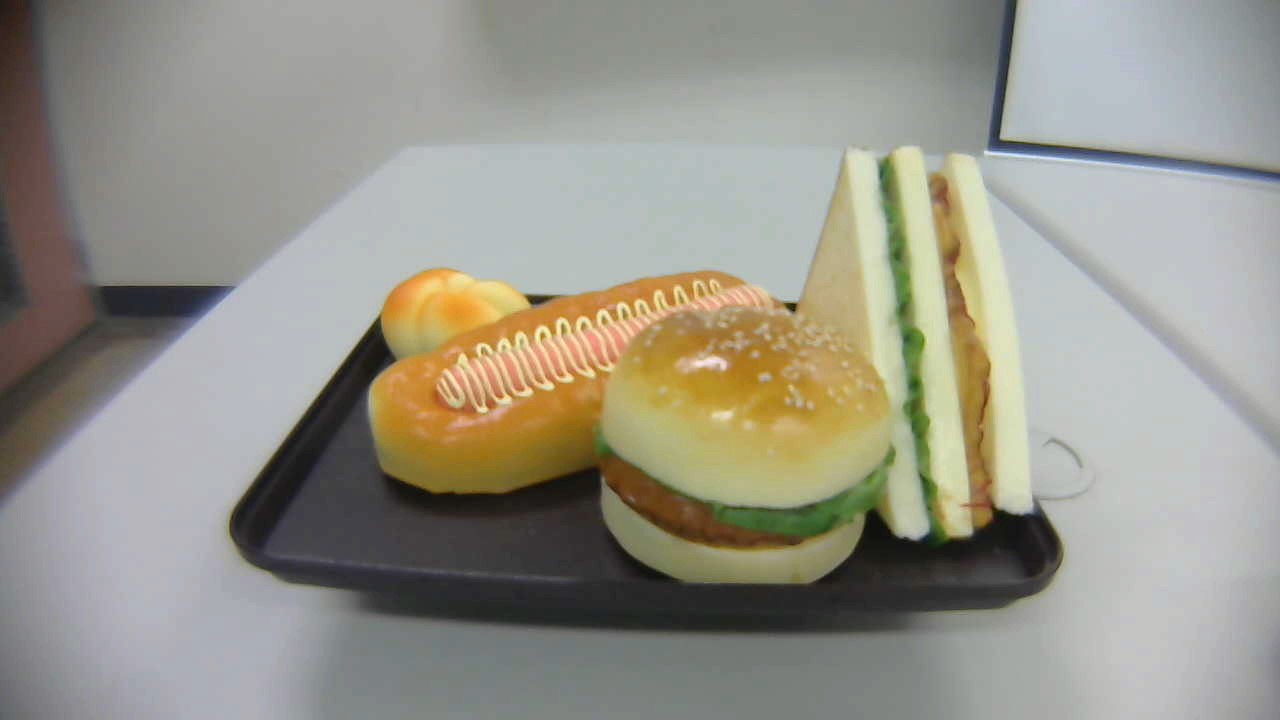hamburger: (599, 302, 895, 591)
hot dog: (363, 270, 785, 492)
sandwich: (779, 144, 1037, 545)
twist bread: (380, 267, 538, 373)
